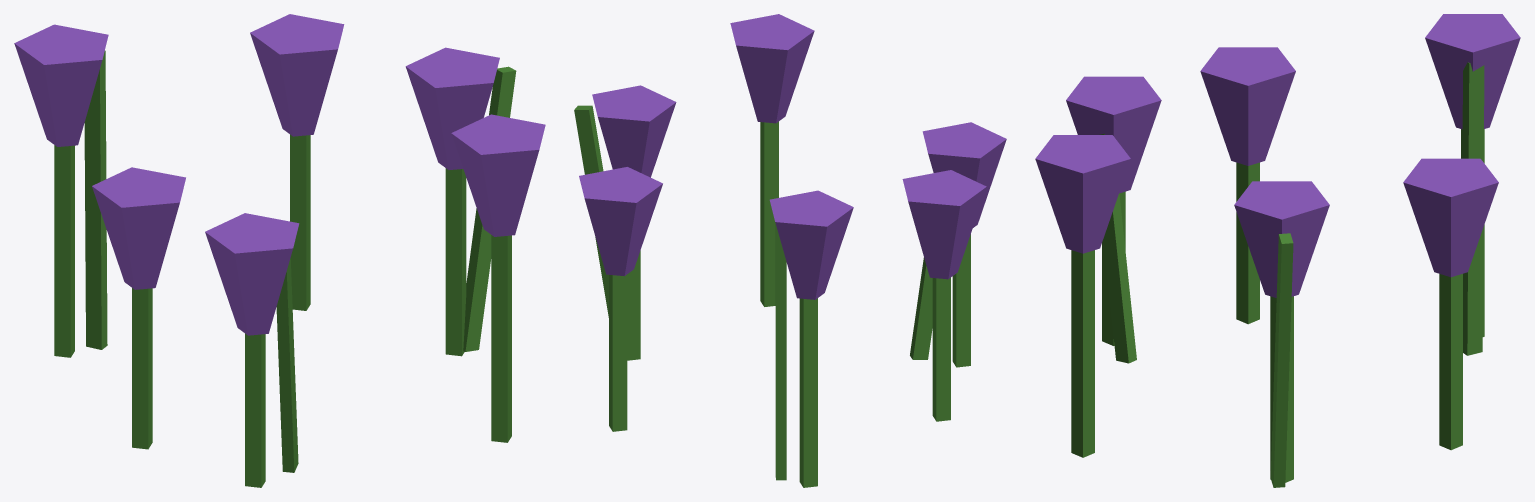
File: Prop_Bee_Flora_Crocus_LOD1.glb
3 renders of one model, left to right at view 1: azimuth 30°, elevation 25°; view 2: azimuth 150°, elevation 25°; view 3: azimuth 270°, elevation 25°, orthographic. The views are drawn at different scales.
Visible parts, largest first — view 1: Prop_Bee_Flora_Crocus; view 2: Prop_Bee_Flora_Crocus; view 3: Prop_Bee_Flora_Crocus.
Part boxes in pixels (<box>): Prop_Bee_Flora_Crocus: <box>14,14,545,487</box>; Prop_Bee_Flora_Crocus: <box>574,14,1006,487</box>; Prop_Bee_Flora_Crocus: <box>1035,14,1520,487</box>.
Bounding box in the file's own units: 0.1649 × 0.1138 × 0.1639.
